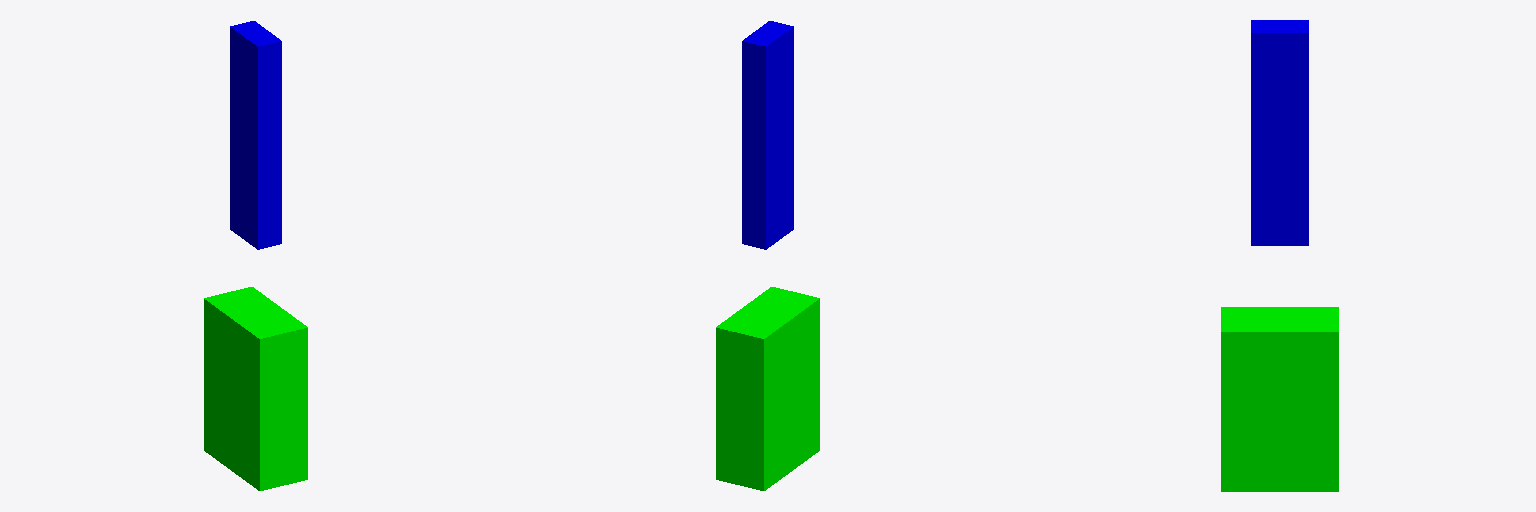
The robot description file, URDF, robot "joint1":
<?xml version="1.0" encoding="UTF-8" ?>
<robot name="joint1">

    <material name="green">
        <color rgba="0 1.0 0 0.5"/>
    </material>

    <material name="blue">
        <color rgba="0 0 1.0 0.5"/>
    </material>

    <!-- link -->
    <link name="base">
        <visual>
            <geometry>
                <!-- x y z -->
                <box size="0.2 0.4 0.6"/>
            </geometry>
            <material name="green"/>
        </visual>
    </link>

    <!-- link -->
    <link name="link2">
        <visual>
            <geometry>
                <!-- x y z -->
                <box size="0.1 0.2 0.8"/>
            </geometry>
            <material name="blue"/>
        </visual>
    </link>

    <!-- joint: -->
    <joint name="joint0" type="fixed">
        <!-- who root -->
        <parent link="base"/>
        <!-- child -->
        <child link="link2"/>
        <origin xyz="0 0 1" rpy="0 0 0"/>
    </joint>

</robot>

--- Render facts (derived) ---
3 views of the same robot in one strip: view 1: azimuth 30°, elevation 25°; view 2: azimuth 150°, elevation 25°; view 3: azimuth 270°, elevation 25° (orthographic).
Model joint1 with 2 links and 1 joints (1 fixed), rooted at base, posed all joints at 0.
Visible links, largest first — view 1: base, link2; view 2: base, link2; view 3: base, link2.
Link boxes in pixels (box(x1,y1,x2,y2)): base: box(204, 287, 307, 490); link2: box(230, 21, 281, 249); base: box(716, 287, 819, 490); link2: box(742, 21, 793, 249); base: box(1221, 307, 1338, 491); link2: box(1251, 20, 1308, 245).
Bounding box of the posed robot: 0.2 × 0.4 × 1.7 m (x, y, z).
Geometry: primitives only (box / cylinder / sphere), no mesh files.
